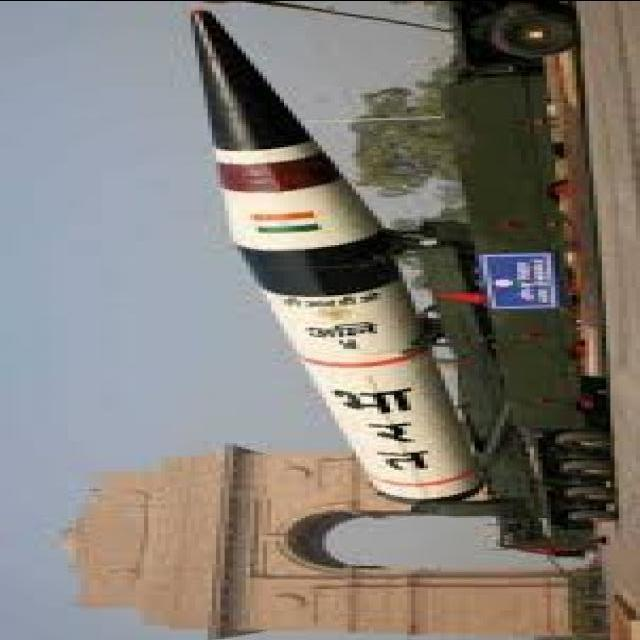Missile: (180, 0, 502, 518)
